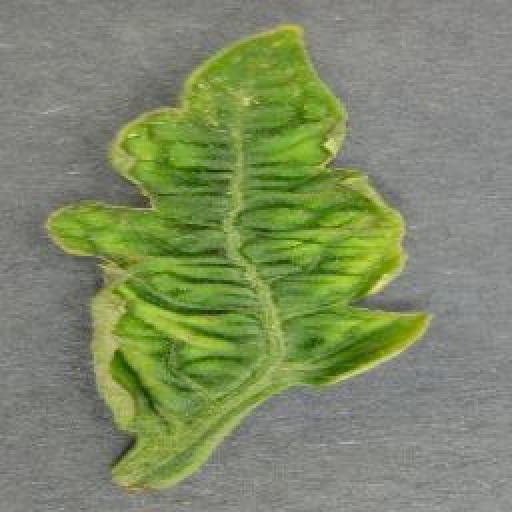disease_tomato: (46, 20, 434, 440)
